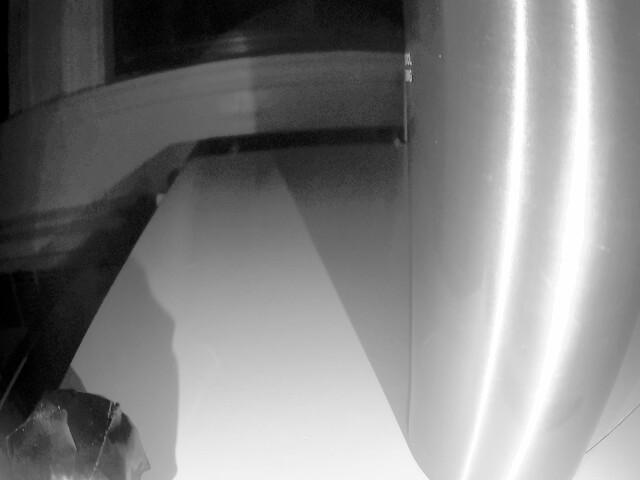silver: (11, 374, 169, 480)
